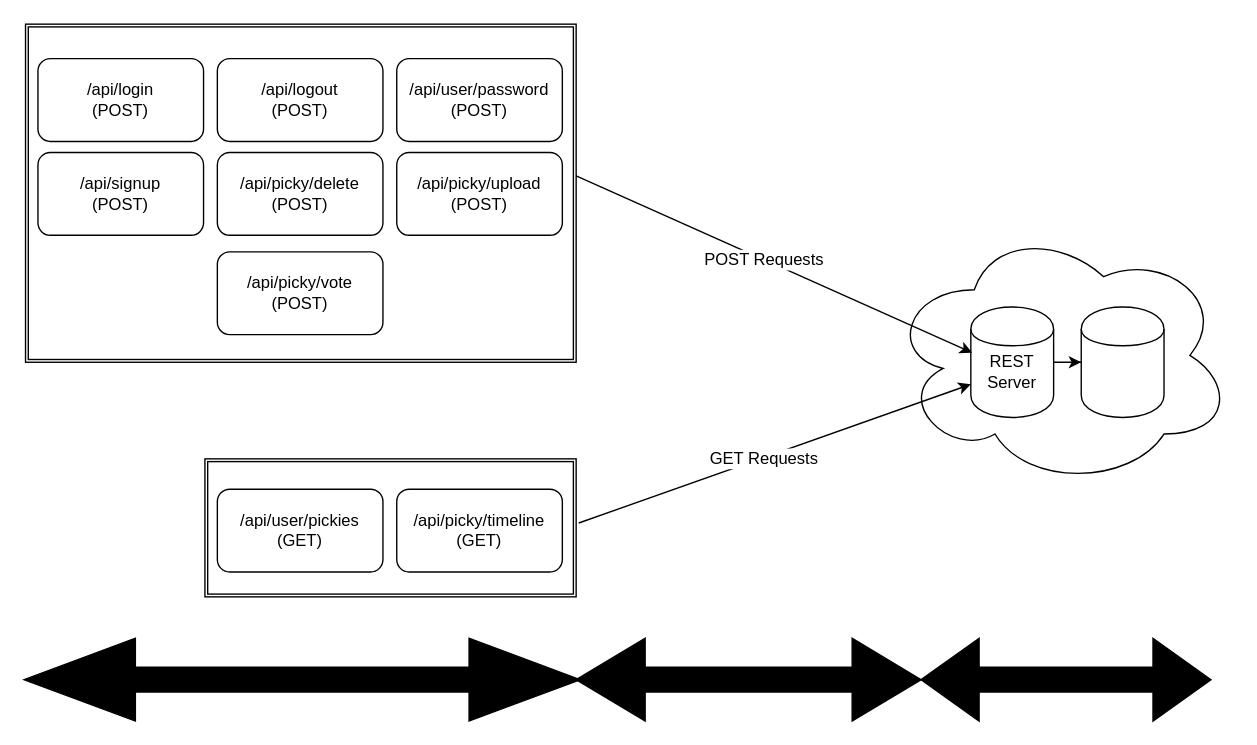
Some shapes in this 1257 by 745 pixel diagram are drawn without their labels. Here are the shapes that lost their labels. From the top down, the centre of each, then its label:
At (1122,361): "Database".
At (301,679): "Android App (REST Client)".
At (748,679): "HTTP REST Requests".
At (1065,679): "App Server".
